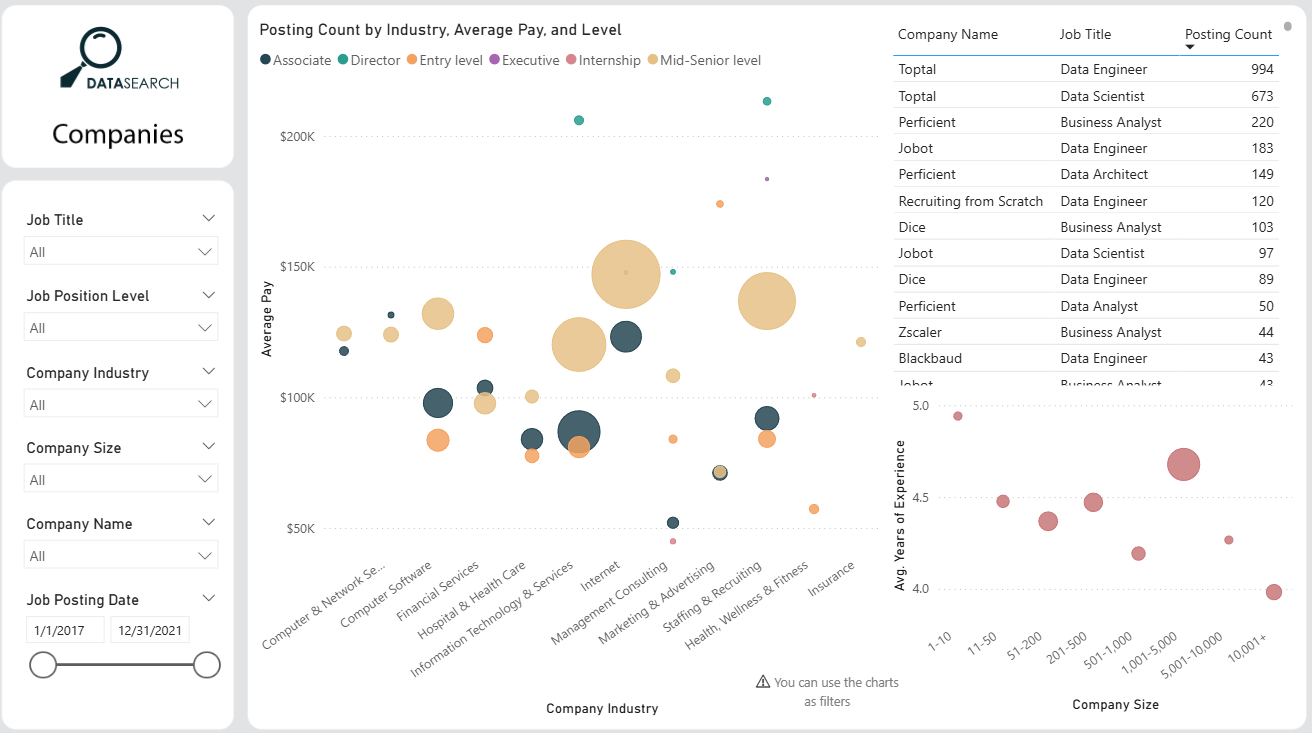

What the dashboard file says about the page in this screenshot:
{"tool":"powerbi","page":{"name":"COMPANIES-Dashboard","canvas":[1280,720],"ordinal":4},"visuals":[{"type":"image","box":[0,0,1280,720.6],"z":0},{"type":"tableEx","fields":{"Values":["Job Postings.Company Name","Job Postings.Job Title","_Measures.Posting Count"]},"box":[861.6,27.5,390.9,356.5],"z":1000},{"type":"scatterChart","fields":{"Y":["Avg(Job Postings.Years of Experience)"],"X":["Job Postings.Company Size"],"Size":["_Measures.Posting Count"]},"box":[861.6,384,390.9,309.7],"z":2000},{"type":"scatterChart","title":"Posting Count by Industry, Average Pay, and Level","fields":{"X":["Job Postings.Company Industry"],"Size":["_Measures.Posting Count"],"Series":["Job Postings.Job Position Level"],"Y":["Job Postings.Average Pay"]},"box":[261.5,30.3,600.1,666.2],"z":3000},{"type":"textbox","box":[730.8,642.8,148.6,50.9],"z":4000},{"type":"slicer","fields":{"Values":["Job Postings.Job Title"]},"box":[31.7,207.8,205.1,72.9],"z":5000},{"type":"slicer","fields":{"Values":["Job Postings.Job Position Level"]},"box":[31.7,280.8,205.1,71.6],"z":6000},{"type":"slicer","fields":{"Values":["Job Postings.Company Industry"]},"box":[31.7,352.3,205.1,71.6],"z":7000},{"type":"slicer","fields":{"Values":["Job Postings.Company Size"]},"box":[31.7,423.9,205.1,72.9],"z":8000},{"type":"slicer","fields":{"Values":["Job Postings.Company Name"]},"box":[31.7,496.9,205.1,71.6],"z":9000},{"type":"slicer","fields":{"Values":["Job Postings.Job Posting Date"]},"box":[31.7,568.4,205.1,151.4],"z":10000},{"type":"shape","box":[61.5,23.9,150.4,90.6],"z":11000}]}

Visuals, with their boxes in screenshot pixels (x1, y1, x2, y2), scaled from the page's 1280x720 canvas onto the 1312x733 screenshot:
image: Rect(0, 0, 1311, 732)
tableEx - Job Postings.Company Name x Job Postings.Job Title: Rect(883, 28, 1284, 391)
scatterChart - Avg(Job Postings.Years of Experience) x Job Postings.Company Size: Rect(883, 391, 1284, 706)
"Posting Count by Industry, Average Pay, and Level" scatterChart: Rect(268, 31, 883, 709)
textbox: Rect(749, 654, 901, 706)
slicer - Job Postings.Job Title: Rect(32, 212, 243, 286)
slicer - Job Postings.Job Position Level: Rect(32, 286, 243, 359)
slicer - Job Postings.Company Industry: Rect(32, 359, 243, 432)
slicer - Job Postings.Company Size: Rect(32, 432, 243, 506)
slicer - Job Postings.Company Name: Rect(32, 506, 243, 579)
slicer - Job Postings.Job Posting Date: Rect(32, 579, 243, 732)
shape: Rect(63, 24, 217, 117)
